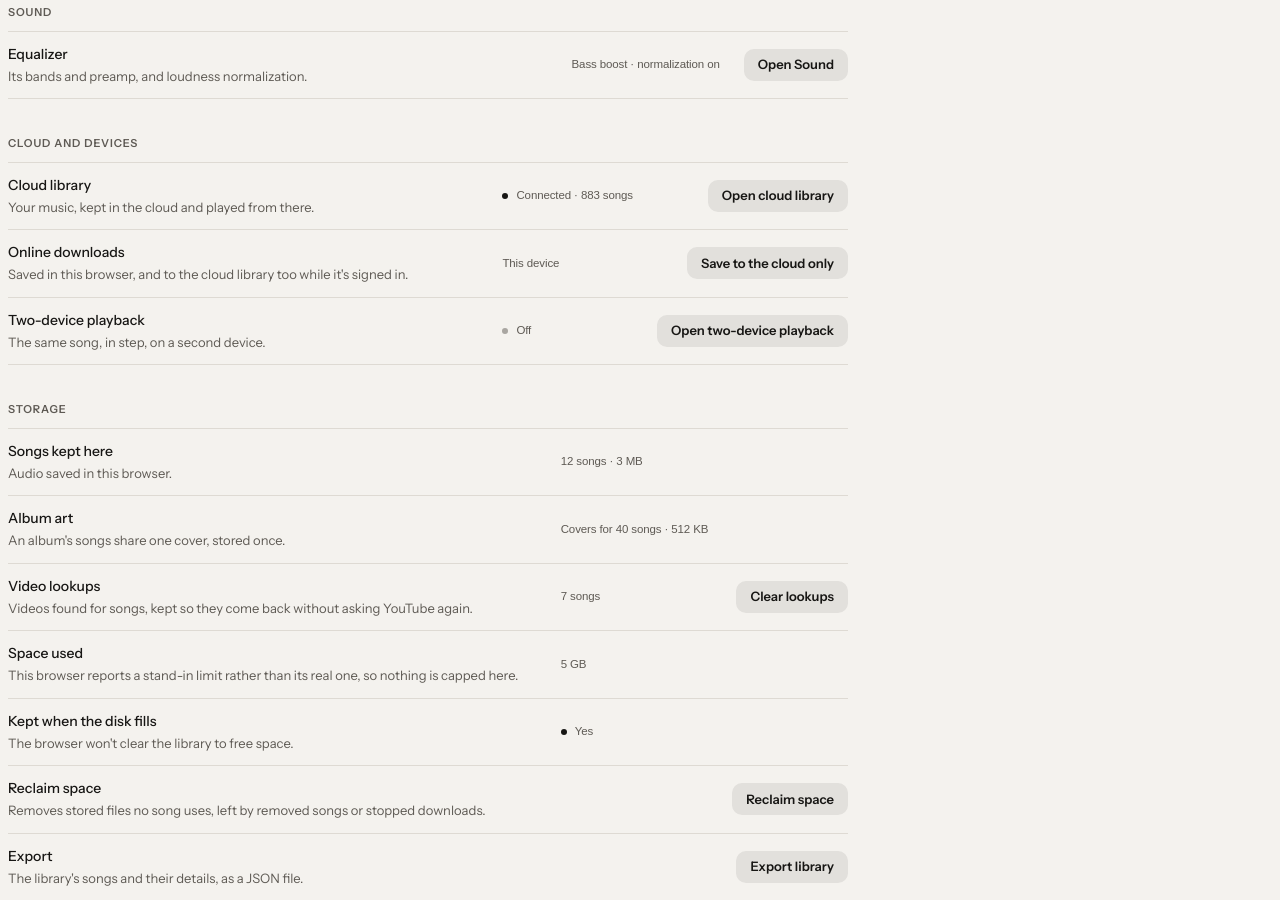
SettingsView › reclaims space only after asking, with the count it found
Later steps or results of the test are not shown.
Click the button "Reclaim space". click: click(790, 799)
box: [732,783,848,815]
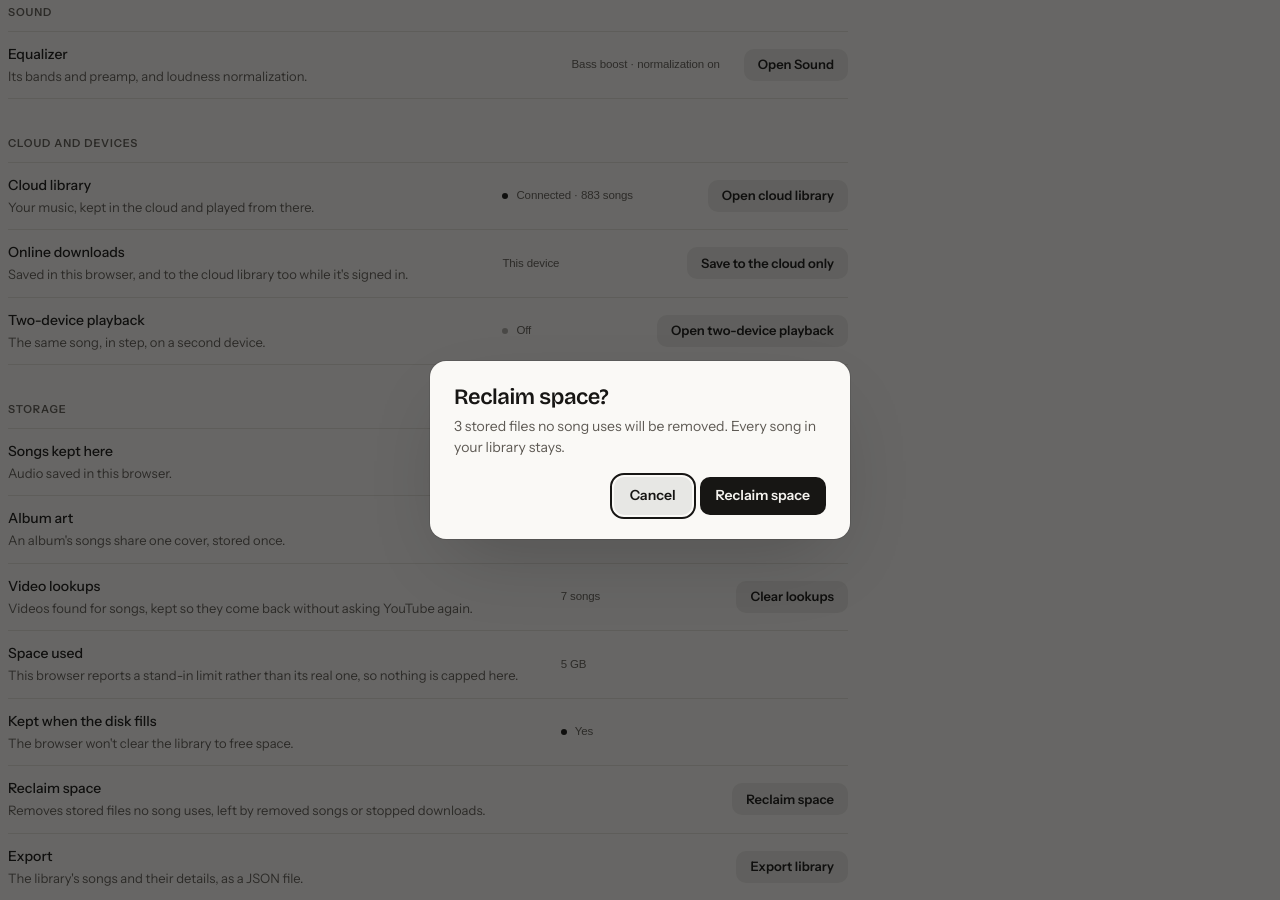
Result: the text "3 stored files no song uses" is shown at [454,416,826,457]
